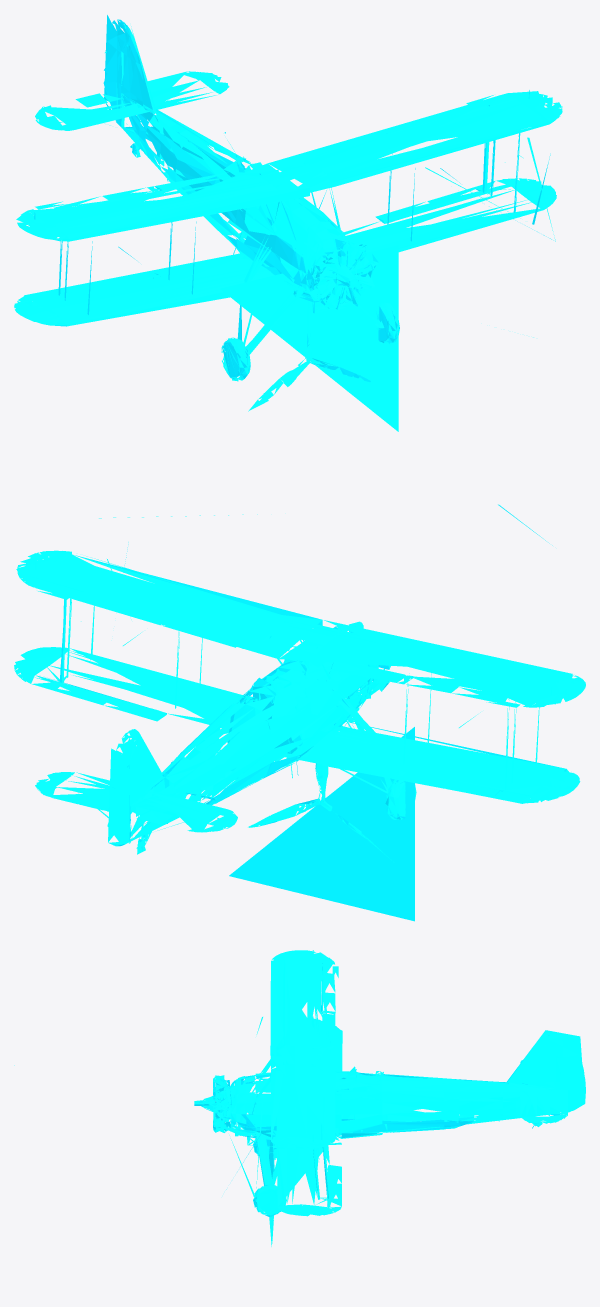
Rendered from PGAD301.glb.
The picture shows the model from 3 angles, top to bottom: view 1: azimuth 30°, elevation 25°; view 2: azimuth 150°, elevation 25°; view 3: azimuth 270°, elevation 25°; orthographic projection. The views are drawn at different scales.
Visible parts, largest first — view 1: misc; view 2: misc; view 3: misc.
Part boxes in pixels (box(x1,y1,x2,y2)): misc: box(14, 15, 562, 431); misc: box(14, 504, 585, 921); misc: box(14, 950, 585, 1246).
Bounding box in the file's own units: 0.7632 × 0.411 × 0.9283.
